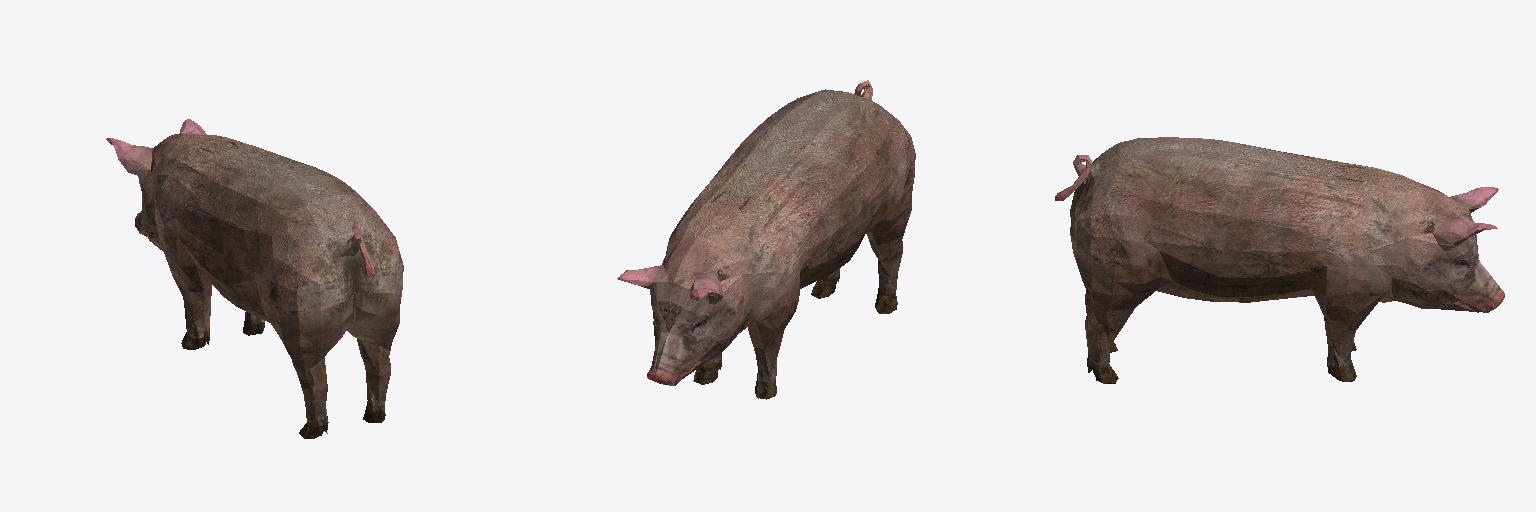
The picture shows the model from 3 angles: view 1: azimuth 30°, elevation 25°; view 2: azimuth 150°, elevation 25°; view 3: azimuth 270°, elevation 25°; orthographic projection.
Visible parts, largest first — view 1: Mesh1 skpCBC1_1 Pig1; view 2: Mesh1 skpCBC1_1 Pig1; view 3: Mesh1 skpCBC1_1 Pig1.
Part boxes in pixels (left/top/right/bottom): Mesh1 skpCBC1_1 Pig1: left=106, top=119, right=403, bottom=438; Mesh1 skpCBC1_1 Pig1: left=617, top=80, right=915, bottom=399; Mesh1 skpCBC1_1 Pig1: left=1055, top=137, right=1504, bottom=383.
Bounding box in the file's own units: 0.3576 × 0.5983 × 1.11.
1 materials, 1 textured.